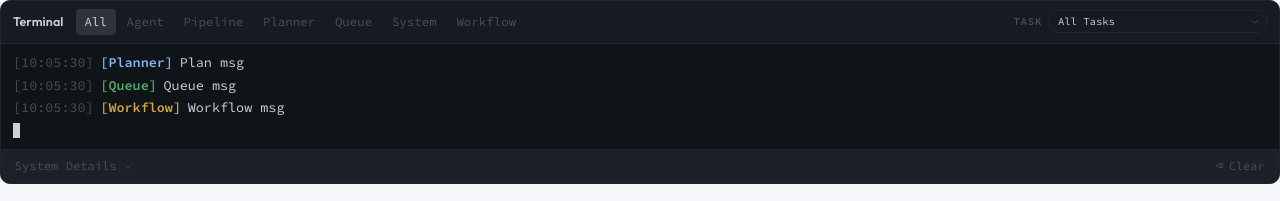
Test case: TerminalFeed › clicking a role tab filters visible events
Check: the number of elements with class "terminal-line" is 3, box [13,54,244,71]; [13,76,236,94]; [13,99,284,116]
# Click Planner tab
Click the tab "Planner": (289, 22) [254,9,324,35]
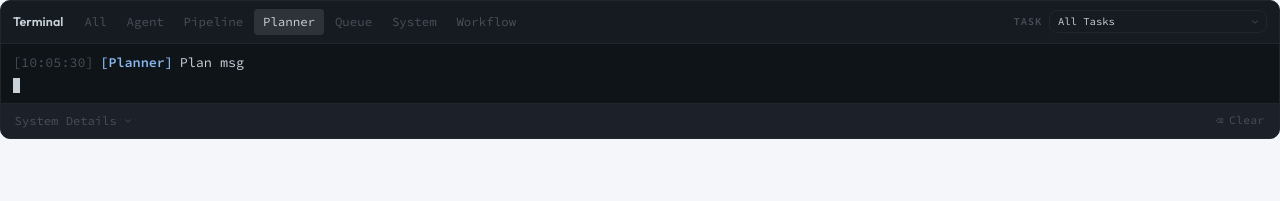
Check: the text with class "terminal-message" reads "Plan msg", box [180,54,244,71]
Check: the number of elements with class "terminal-line" is 1, box [13,54,244,71]
